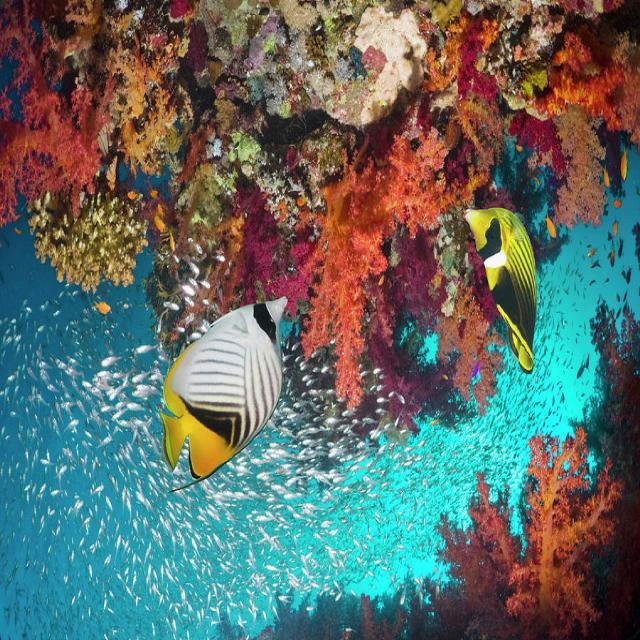ButterflyFish: (148, 294, 304, 478), (462, 194, 546, 379)
